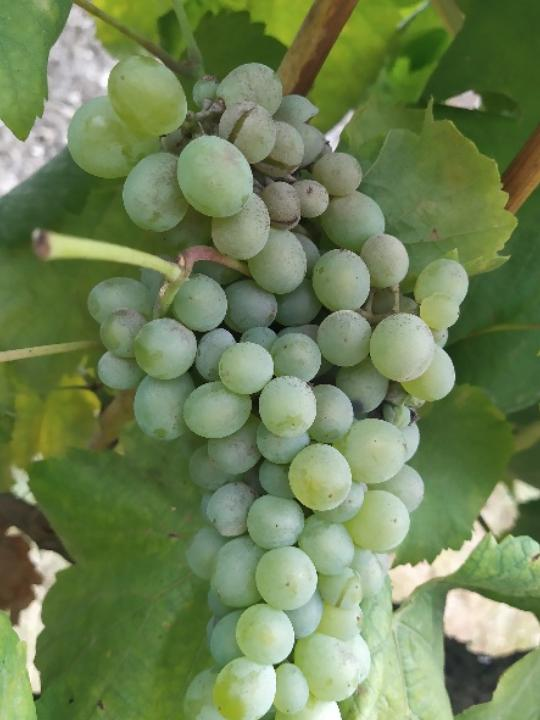grape: (63, 50, 472, 720)
